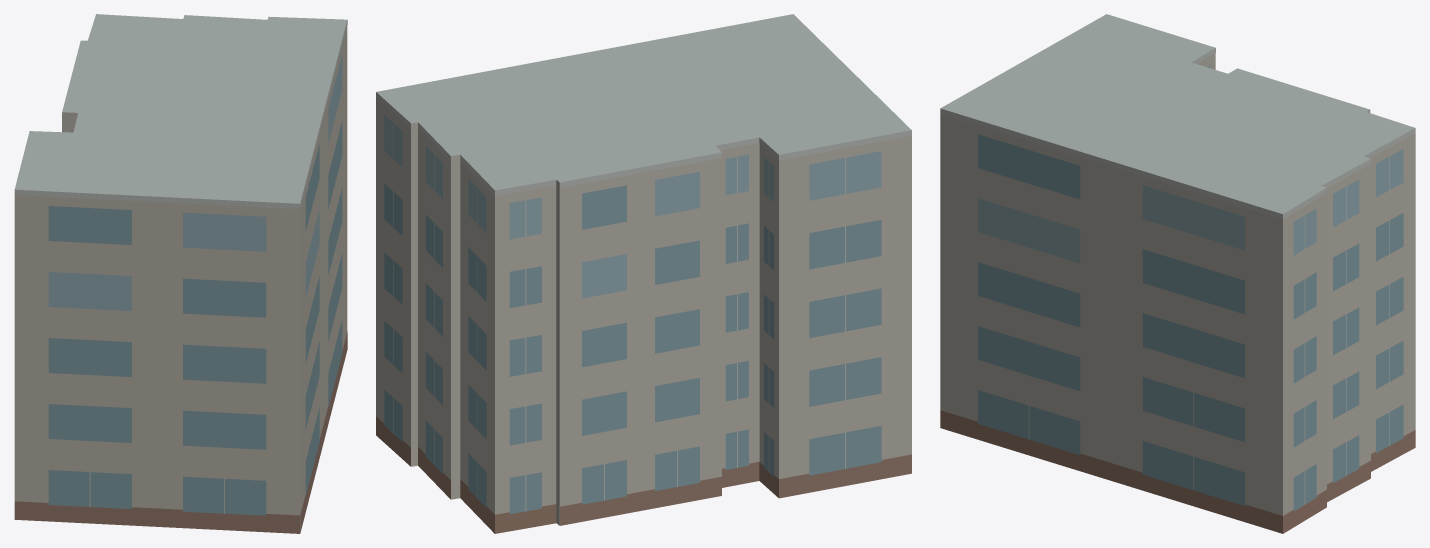
File: survey-upis-33002411.glb
The picture shows the model from 3 angles, left to right: view 1: azimuth 30°, elevation 25°; view 2: azimuth 150°, elevation 25°; view 3: azimuth 270°, elevation 25°; orthographic projection. The views are drawn at different scales.
Parts seen in each view (by area): view 1: survey-upis-33002411.tmp; view 2: survey-upis-33002411.tmp; view 3: survey-upis-33002411.tmp.
Boxes of the visible parts, x1=… form: survey-upis-33002411.tmp: x1=14, y1=14, x2=347, y2=533; survey-upis-33002411.tmp: x1=376, y1=14, x2=911, y2=533; survey-upis-33002411.tmp: x1=940, y1=14, x2=1415, y2=533.
Size of the model in its own units: 20.17 by 15 by 20.23.
